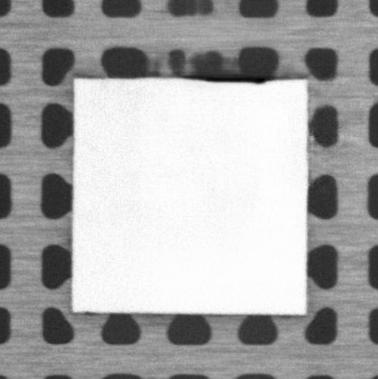DIE_BROKEN: (183, 74, 277, 84)
